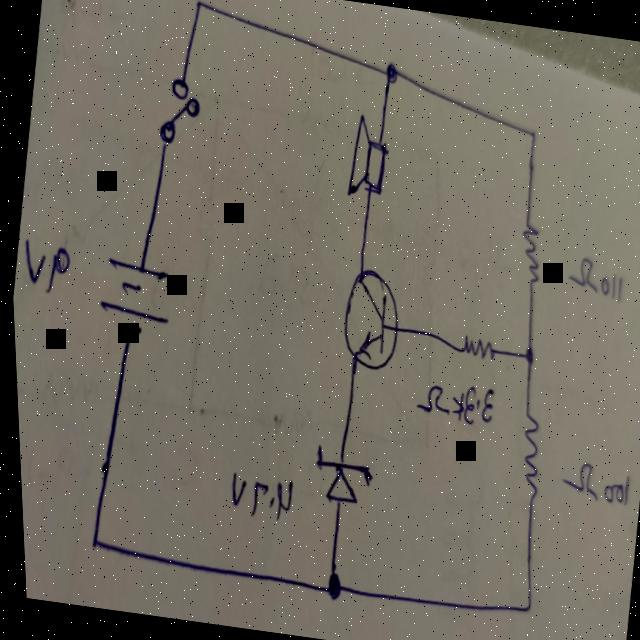diode: (307, 445, 373, 508)
junction: (513, 337, 536, 373), (319, 564, 343, 598), (381, 56, 402, 86), (82, 530, 99, 558), (517, 598, 530, 615), (192, 0, 206, 14), (526, 128, 538, 144)
resistor: (511, 410, 544, 500), (515, 220, 545, 284), (456, 332, 496, 362)
source: (91, 256, 174, 341)
switch: (153, 72, 206, 150)
text: (409, 375, 496, 429), (553, 458, 631, 507), (225, 467, 293, 521), (558, 252, 628, 302), (18, 238, 70, 290)
transistor: (328, 258, 411, 376)
